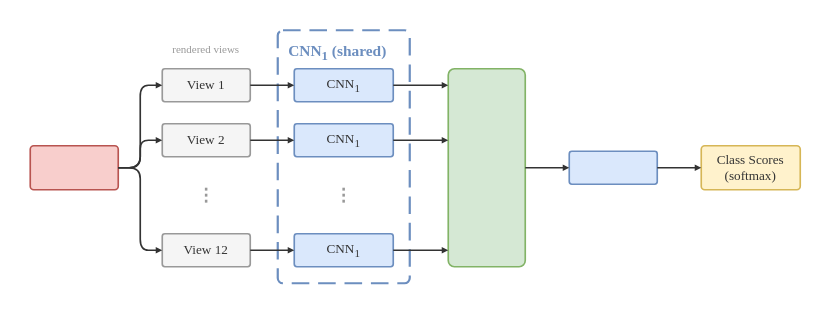
The diagram is 829 pixels wide and 312 high, and some of its shapes have lost their labels. Here are the shapes that lost their labels. From the top down, the centre of each, then its label:
the point at 74,167: 3D Shape (mesh)
the point at 486,167: View Pooling (max)
the point at 613,167: CNN 2
